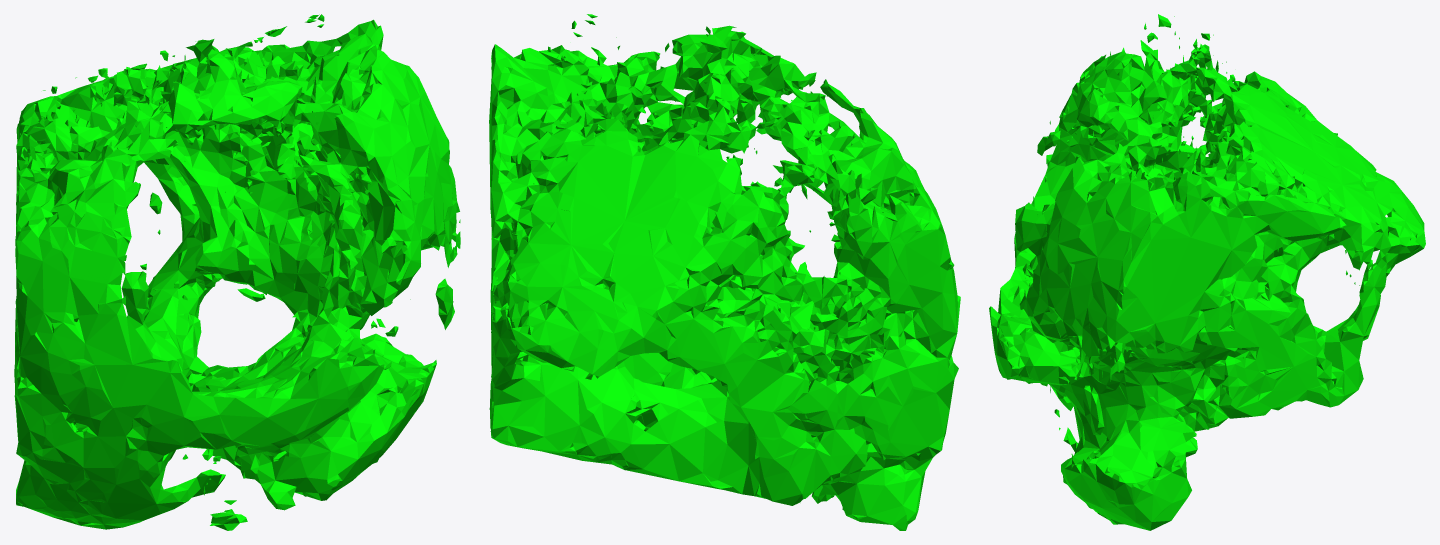
The model's file is B939XXXX-1_base_30.obj.
3 renders of one model, left to right at view 1: azimuth 30°, elevation 25°; view 2: azimuth 150°, elevation 25°; view 3: azimuth 270°, elevation 25°, orthographic. The views are drawn at different scales.
Visible parts, largest first — view 1: 30_base; view 2: 30_base; view 3: 30_base.
Boxes of the visible parts, x1,y1,x2,y2 form: 30_base: [14, 14, 460, 530]; 30_base: [489, 14, 960, 530]; 30_base: [989, 14, 1425, 530].
Bounding box in the file's own units: 218 × 219 × 204.
